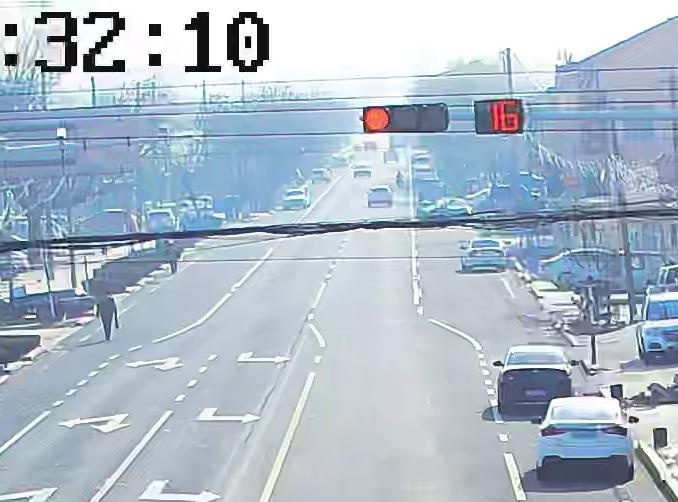red: (361, 106, 391, 136)
redtime: (487, 98, 522, 133)
